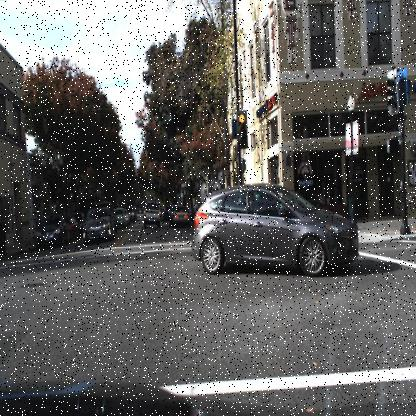car: (185, 175, 365, 287), (192, 183, 359, 278), (31, 207, 71, 252), (81, 207, 113, 243), (35, 214, 67, 249), (168, 202, 192, 230), (143, 199, 162, 230), (171, 204, 191, 228), (118, 207, 126, 229)
trafficLight: (236, 110, 248, 147)
